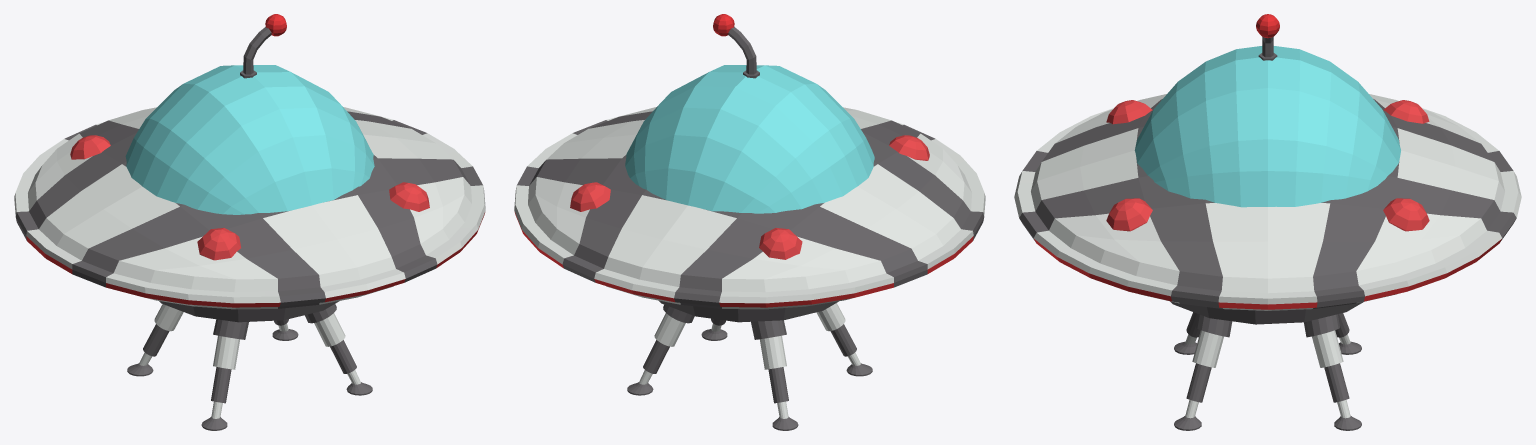
Rendered from ufo.fbx.
3 views of the same model, side by side, from view 1: azimuth 30°, elevation 25°; view 2: azimuth 150°, elevation 25°; view 3: azimuth 270°, elevation 25° (orthographic). The views are drawn at different scales.
Visible parts, largest first — view 1: Cylinder.007; view 2: Cylinder.007; view 3: Cylinder.007.
Boxes of the visible parts, left/top/right/bottom form: Cylinder.007: left=14, top=14, right=485, bottom=430; Cylinder.007: left=514, top=14, right=985, bottom=430; Cylinder.007: left=1014, top=14, right=1521, bottom=430.
Bounding box in the file's own units: 273 × 229 × 273.
